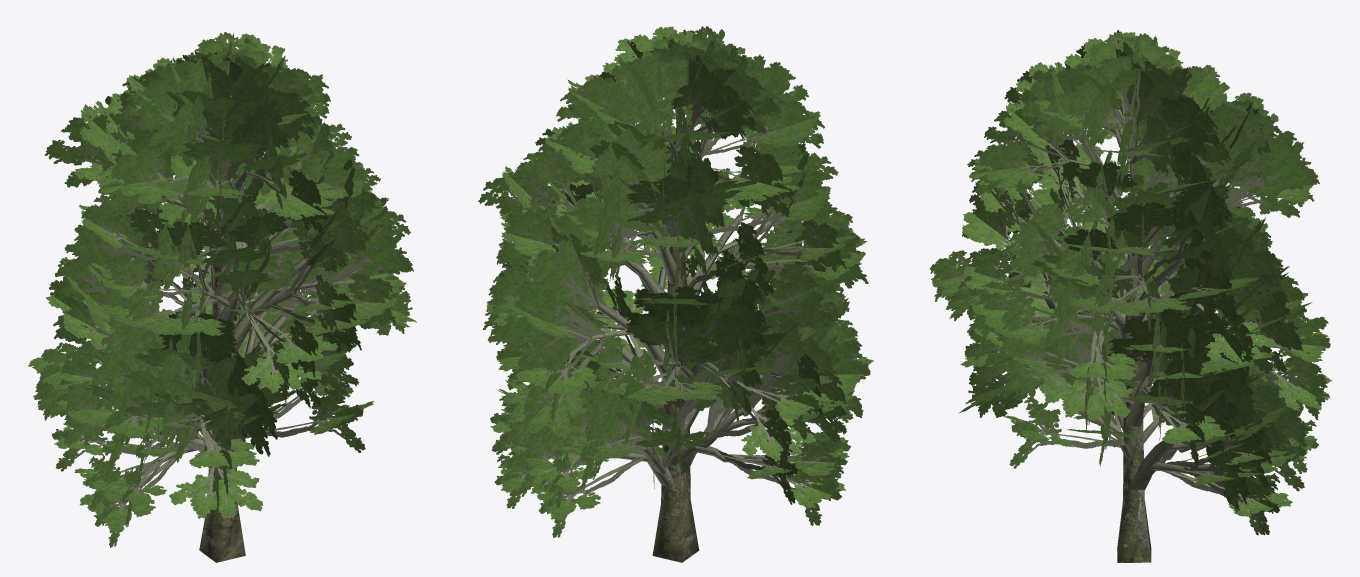
File: FagusSylvatica.glb
The picture shows the model from 3 angles, left to right: view 1: azimuth 30°, elevation 25°; view 2: azimuth 150°, elevation 25°; view 3: azimuth 270°, elevation 25°; orthographic projection.
Visible parts, largest first — view 1: European_Beech__Realistic_LOD3; view 2: European_Beech__Realistic_LOD3; view 3: European_Beech__Realistic_LOD3.
Boxes of the visible parts, x1,y1,x2,y2 form: European_Beech__Realistic_LOD3: [28, 32, 416, 562]; European_Beech__Realistic_LOD3: [478, 26, 873, 562]; European_Beech__Realistic_LOD3: [929, 29, 1331, 562].
Size of the model in its own units: 17.48 by 24.96 by 18.14.
1 material, 1 textured.
